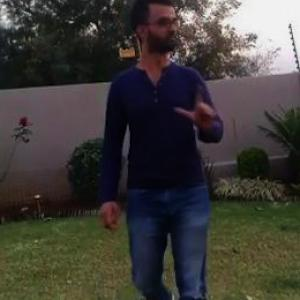land_hand: (172, 82, 220, 134)
